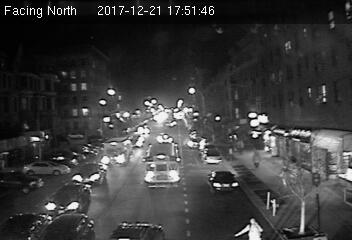car: (44, 183, 92, 214), (72, 162, 106, 186), (206, 169, 240, 192), (202, 149, 223, 163)
pedestrian: (234, 214, 264, 240)
truck: (144, 141, 183, 187), (101, 136, 134, 166)
